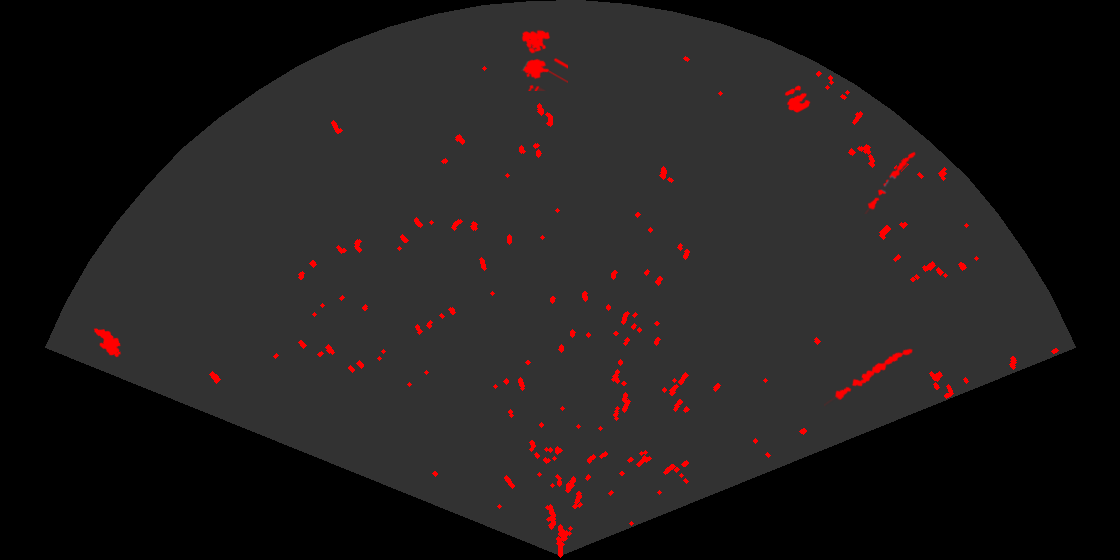AUV: (92, 326, 123, 359)
ball: (783, 84, 812, 114)
cage: (520, 28, 568, 91)
chain: (824, 347, 914, 407), (863, 150, 917, 214)
